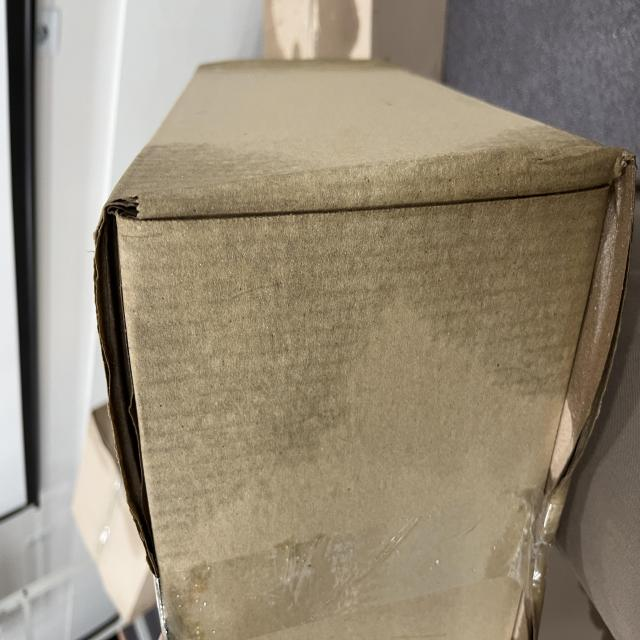wet: (116, 120, 384, 640)
